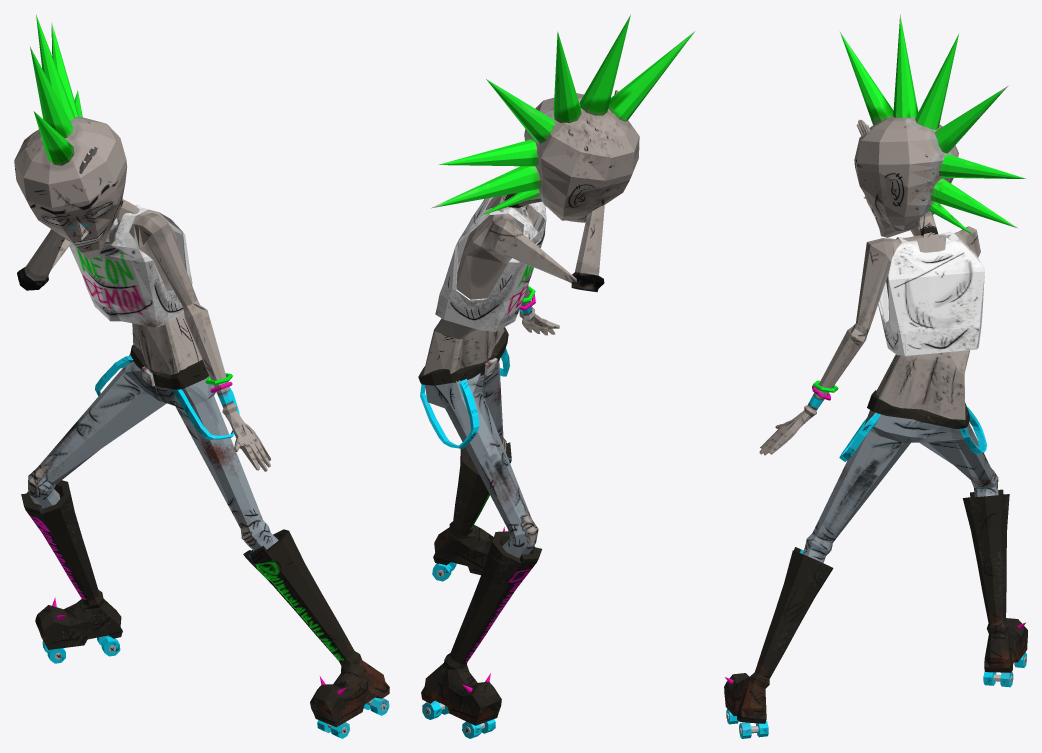
Rendered from punkAnimation_000036.obj.
3 renders of one model, left to right at view 1: azimuth 30°, elevation 25°; view 2: azimuth 150°, elevation 25°; view 3: azimuth 270°, elevation 25°, orthographic. The views are drawn at different scales.
Visible parts, largest first — view 1: Cube.004_Cube.003; view 2: Cube.004_Cube.003; view 3: Cube.004_Cube.003.
Part boxes in pixels (<box>): Cube.004_Cube.003: <box>14,14,389,738</box>; Cube.004_Cube.003: <box>418,14,694,738</box>; Cube.004_Cube.003: <box>724,14,1027,738</box>.
Bounding box in the file's own units: 3.14 × 6.72 × 3.01.
